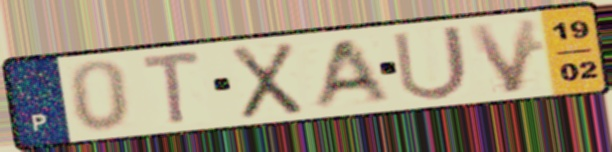0: (65, 57, 138, 135)
A: (306, 35, 393, 112)
T: (138, 48, 206, 129)
U: (388, 22, 473, 103)
V: (463, 14, 543, 96)
X: (227, 39, 306, 122)
